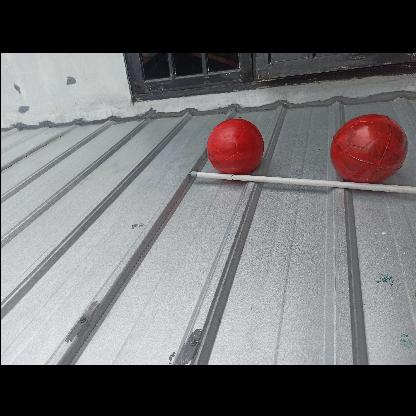red_ball: (329, 110, 405, 186), (206, 116, 262, 174)
